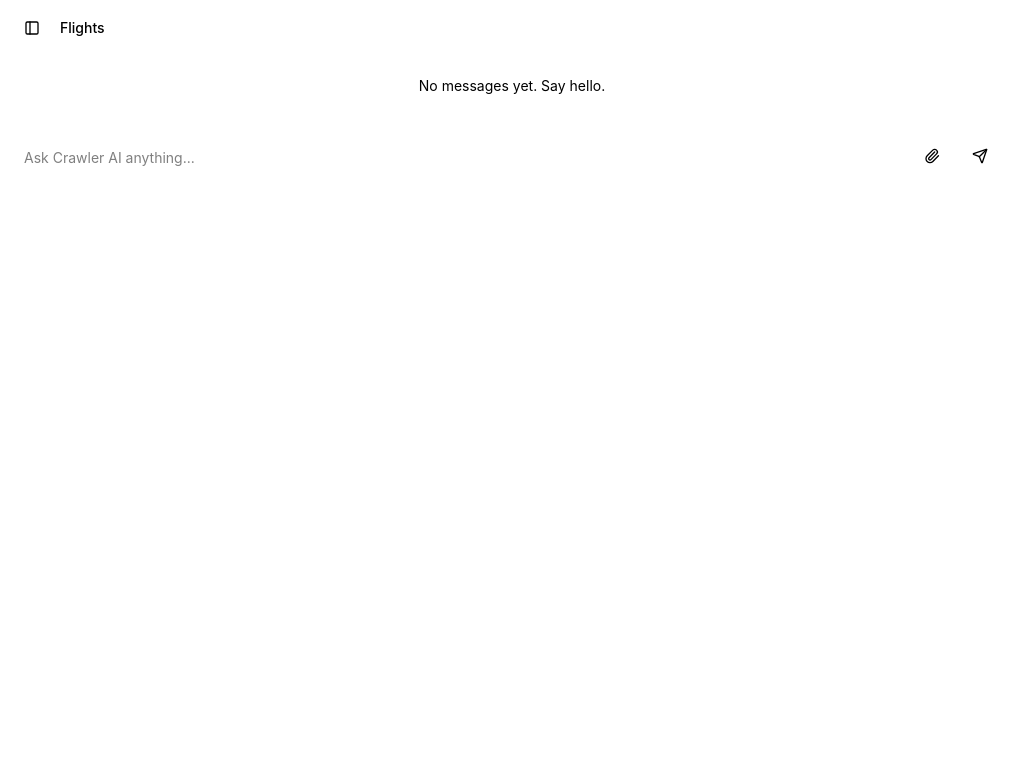
Test: Screenshots in the chat › keeps the screenshot on screen when deciding an approval refetches the thread
Type "find flights from JFK to LAX" into the text box named "Message" at (464, 158), box 24,140 -> 904,176
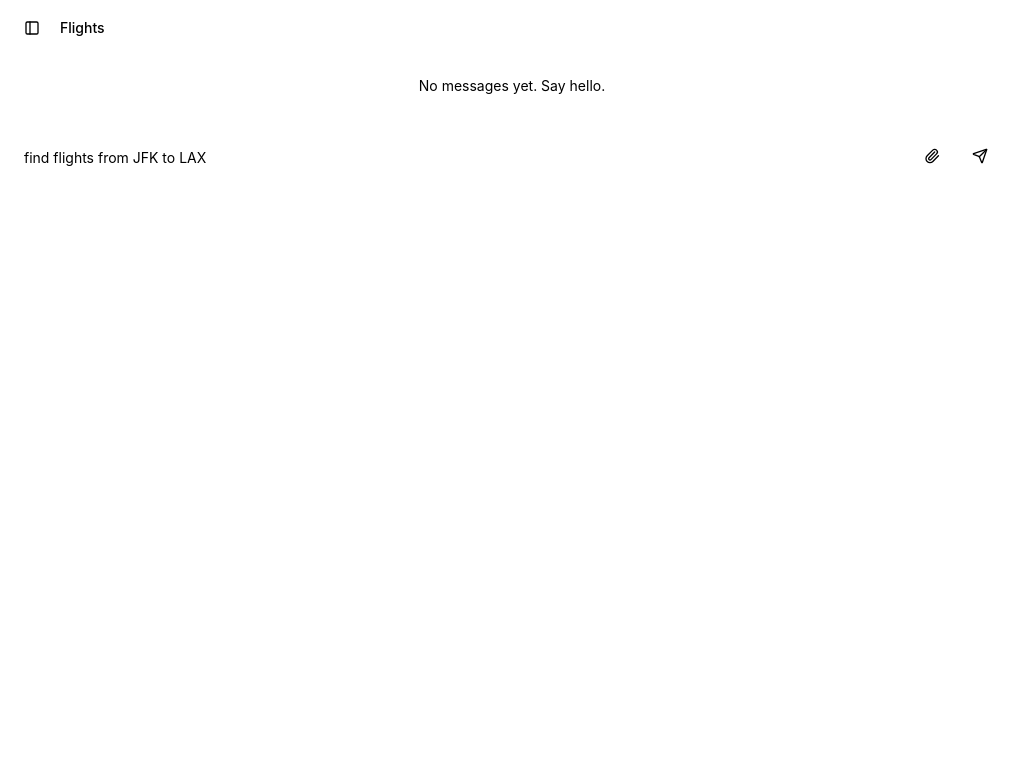
Press Enter in the text box named "Message", box 24,140 -> 904,176
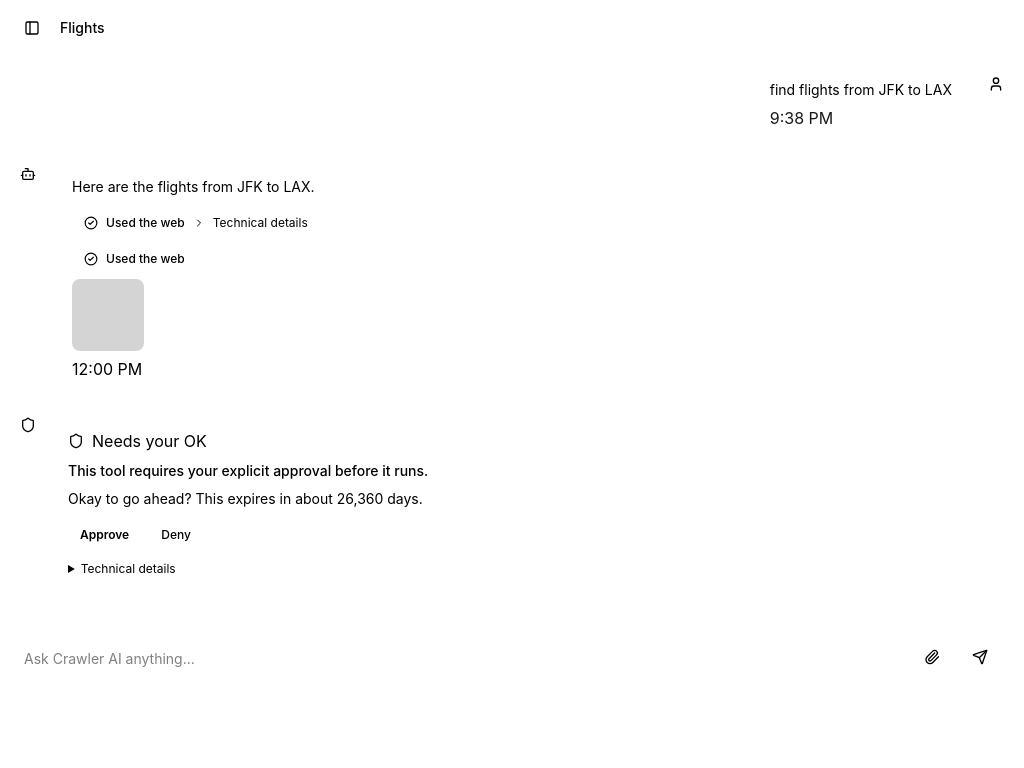
Click the button "Deny" at (176, 535), box 149,517 -> 203,553
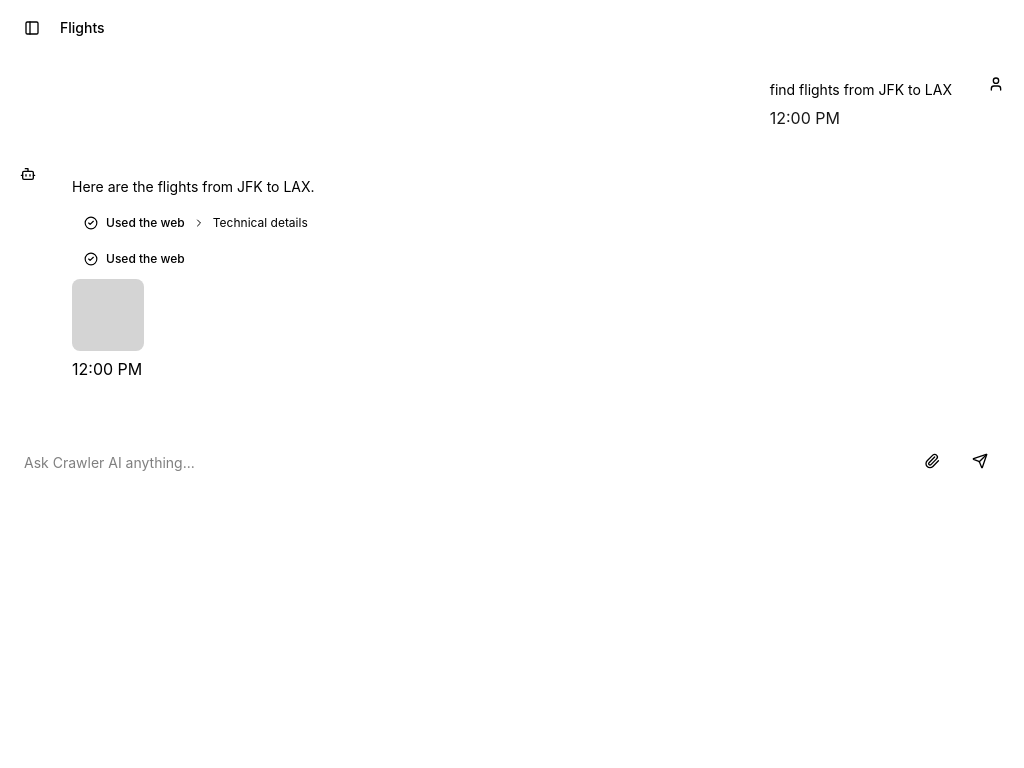
Expected: the button "Deny" is gone
